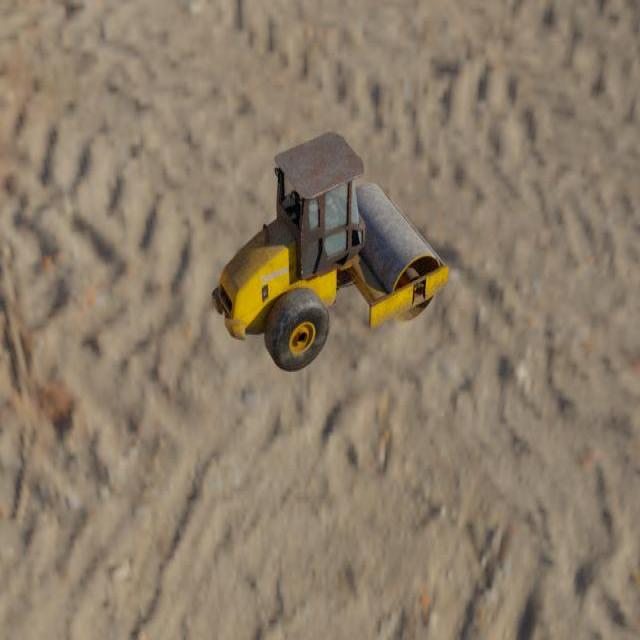Roller: (210, 131, 449, 372)
